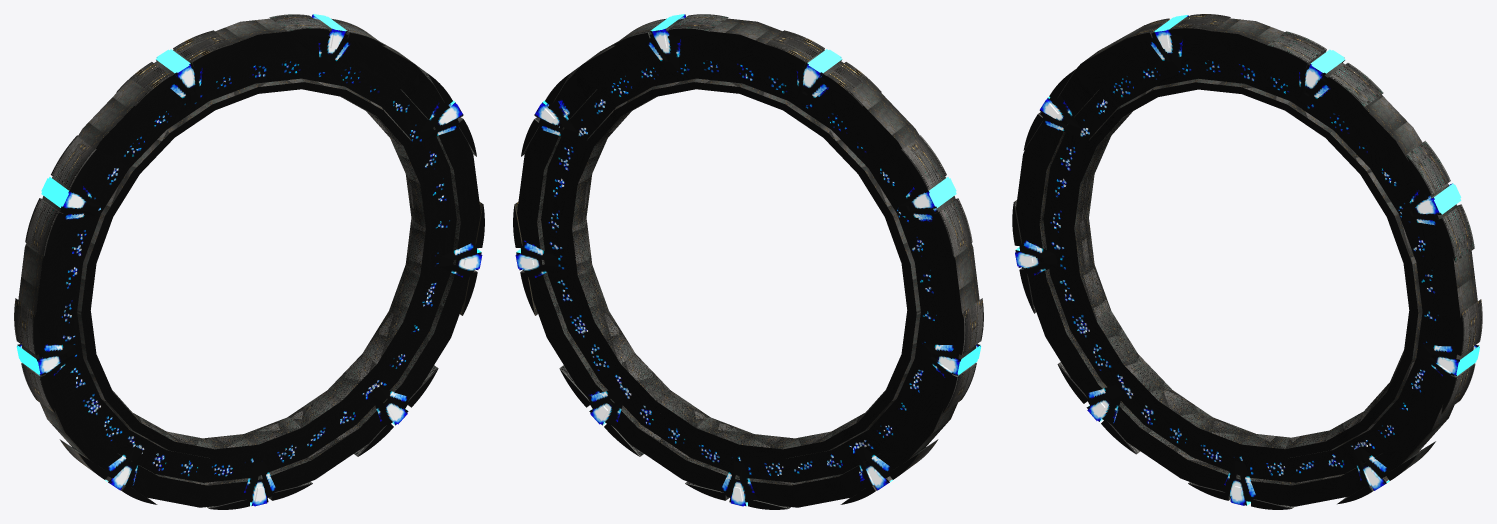
Rendered from lantian_gate.glb.
3 renders of one model, left to right at view 1: azimuth 30°, elevation 25°; view 2: azimuth 150°, elevation 25°; view 3: azimuth 330°, elevation 25°, orthographic.
Visible parts, largest first — view 1: ID619, ID639, ID654, ID664, ID599, ID609, ID629, ID1032, ID822, ID1062, ID966, ID870 (+11 smaller); view 2: ID587, ID577, ID552, ID664, ID599, Stargate, ID567, ID840, ID1014, ID1090, ID984, ID784 (+11 smaller); view 3: ID619, ID639, ID654, ID664, ID599, ID609, ID629, ID918, ID870, ID1062, ID726, ID822 (+11 smaller).
Part boxes in pixels (x1=…): ID619: x1=35, y1=31, x2=480, y2=507; ID639: x1=59, y1=58, x2=456, y2=482; ID654: x1=81, y1=82, x2=434, y2=458; ID664: x1=112, y1=97, x2=425, y2=449; ID599: x1=18, y1=18, x2=414, y2=459; ID609: x1=77, y1=78, x2=410, y2=458; ID629: x1=118, y1=89, x2=460, y2=485; ID1032: x1=439, y1=205, x2=484, y2=314; ID822: x1=359, y1=369, x2=437, y2=455; ID1062: x1=210, y1=461, x2=312, y2=509; ID966: x1=420, y1=74, x2=476, y2=156; ID870: x1=79, y1=446, x2=157, y2=504; ID587: x1=517, y1=31, x2=962, y2=507; ID577: x1=541, y1=58, x2=938, y2=482; ID552: x1=563, y1=82, x2=916, y2=458; ID664: x1=572, y1=96, x2=885, y2=449; ID599: x1=583, y1=18, x2=979, y2=459; Stargate: x1=587, y1=78, x2=920, y2=458; ID567: x1=537, y1=89, x2=879, y2=485; ID840: x1=560, y1=369, x2=638, y2=455; ID1014: x1=513, y1=205, x2=558, y2=314; ID1090: x1=685, y1=461, x2=787, y2=509; ID984: x1=521, y1=74, x2=577, y2=156; ID784: x1=612, y1=28, x2=708, y2=72; ID619: x1=1016, y1=29, x2=1460, y2=506; ID639: x1=1043, y1=58, x2=1440, y2=482; ID654: x1=1065, y1=82, x2=1418, y2=458; ID664: x1=1074, y1=111, x2=1403, y2=449; ID599: x1=1082, y1=17, x2=1477, y2=463; ID609: x1=1089, y1=78, x2=1422, y2=457; ID629: x1=1039, y1=89, x2=1382, y2=485; ID918: x1=1012, y1=203, x2=1057, y2=312; ID870: x1=1058, y1=365, x2=1135, y2=453; ID1062: x1=1188, y1=461, x2=1290, y2=509; ID726: x1=1023, y1=70, x2=1080, y2=150; ID822: x1=1337, y1=446, x2=1416, y2=504.
Bounding box in the file's own units: 8.64 × 8.58 × 0.7151.
5 materials, 4 textured.
